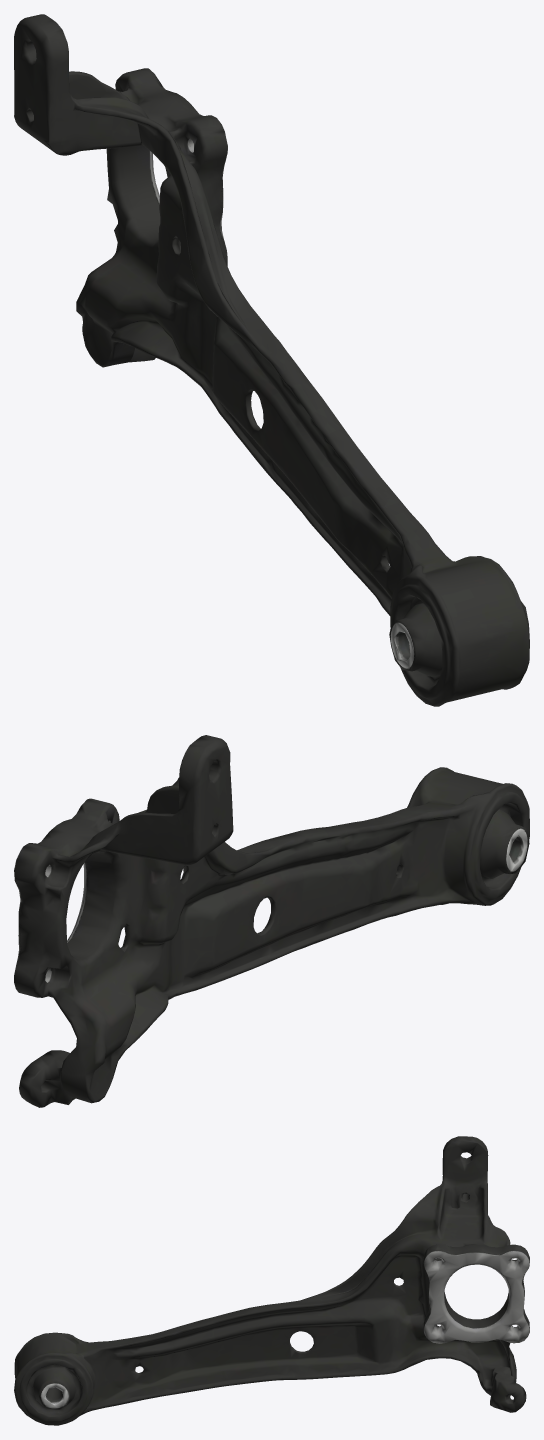
Rendered from rear-susp.glb.
3 views of the same model, one above another, from view 1: azimuth 30°, elevation 25°; view 2: azimuth 150°, elevation 25°; view 3: azimuth 270°, elevation 25° (orthographic). The views are drawn at different scales.
Parts seen in each view (by area): view 1: tripo_node_87b3c5b3-e789-40cf-ad04-d14fd09ef69f; view 2: tripo_node_87b3c5b3-e789-40cf-ad04-d14fd09ef69f; view 3: tripo_node_87b3c5b3-e789-40cf-ad04-d14fd09ef69f.
Part boxes in pixels (x1=…): tripo_node_87b3c5b3-e789-40cf-ad04-d14fd09ef69f: x1=14, y1=14, x2=529, y2=706; tripo_node_87b3c5b3-e789-40cf-ad04-d14fd09ef69f: x1=14, y1=735, x2=529, y2=1107; tripo_node_87b3c5b3-e789-40cf-ad04-d14fd09ef69f: x1=14, y1=1136, x2=529, y2=1425.
Size of the model in its own units: 0.2154 by 0.5502 by 1.
Materials: 1 (1 with a texture image).
